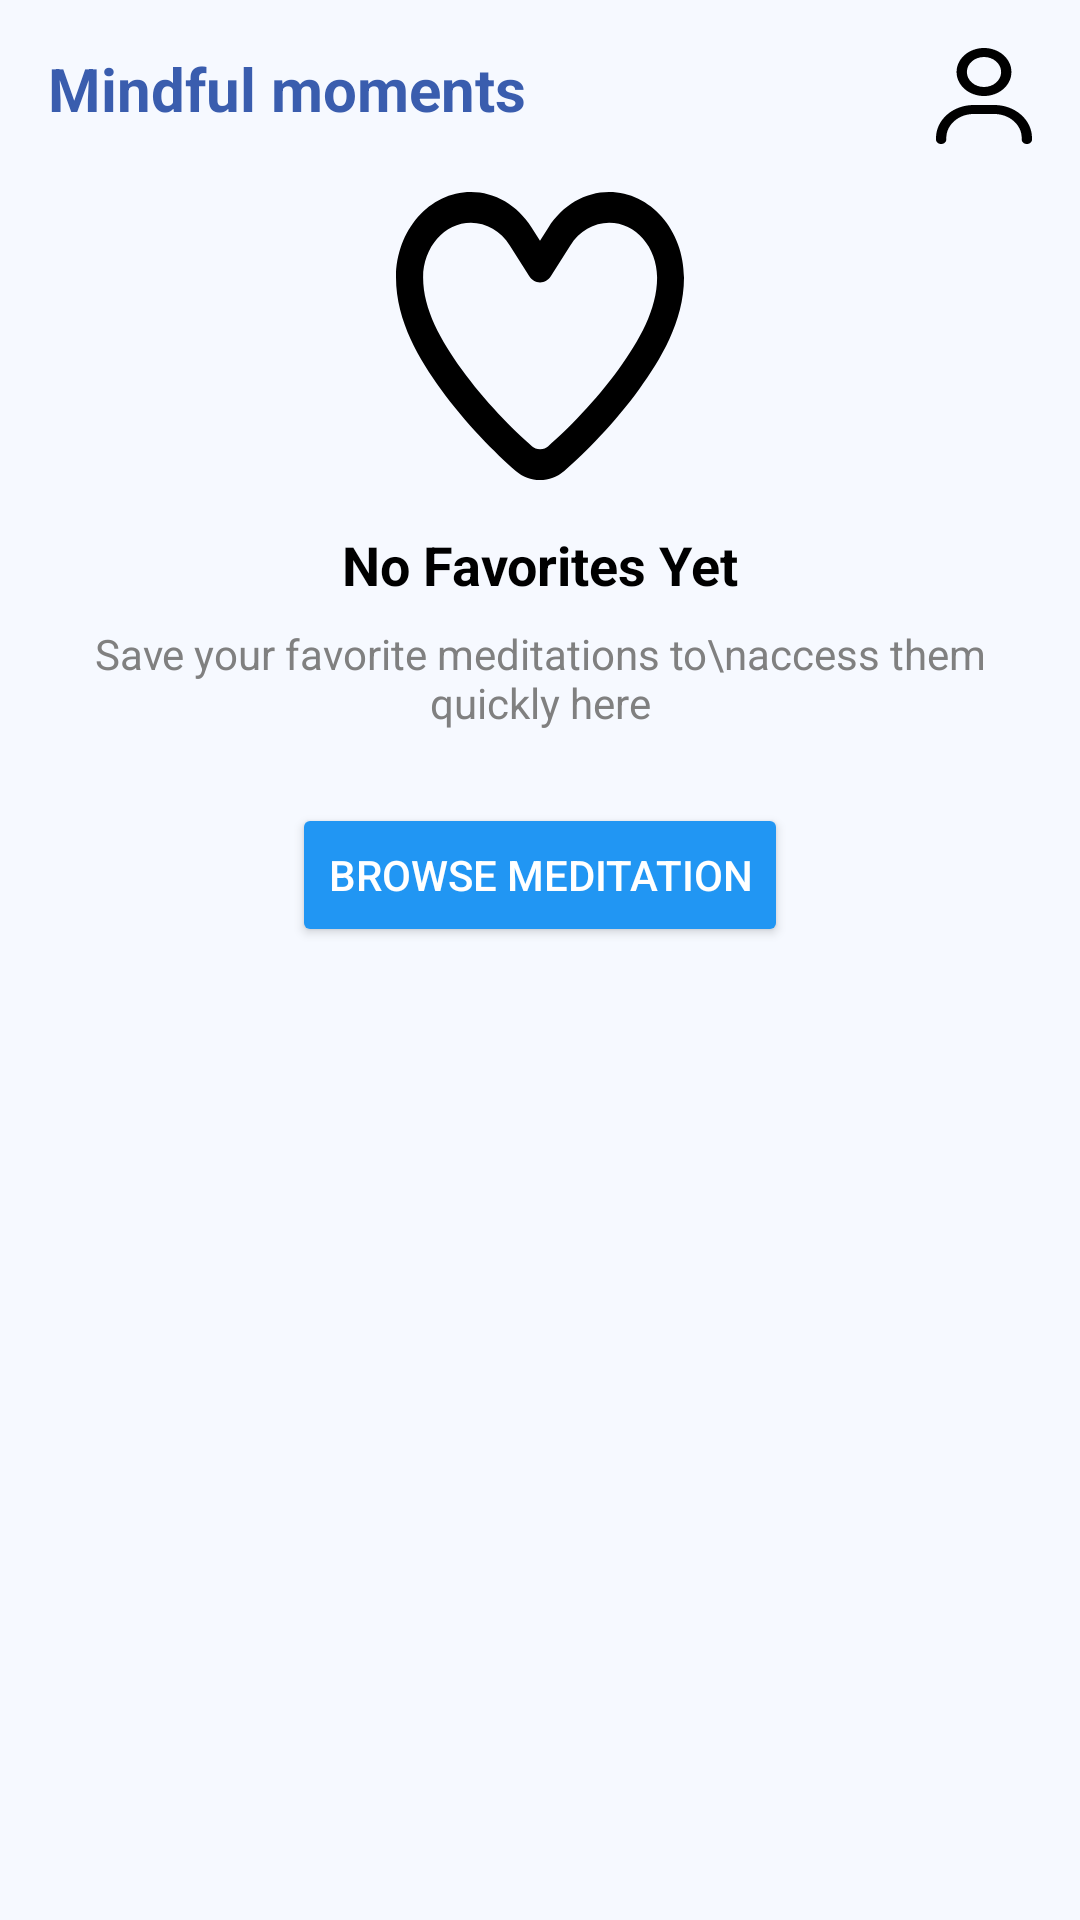

Named icons in this screenshot (1080px x 1920px) and their centers, [x,y]:
Profile: [984,96]
